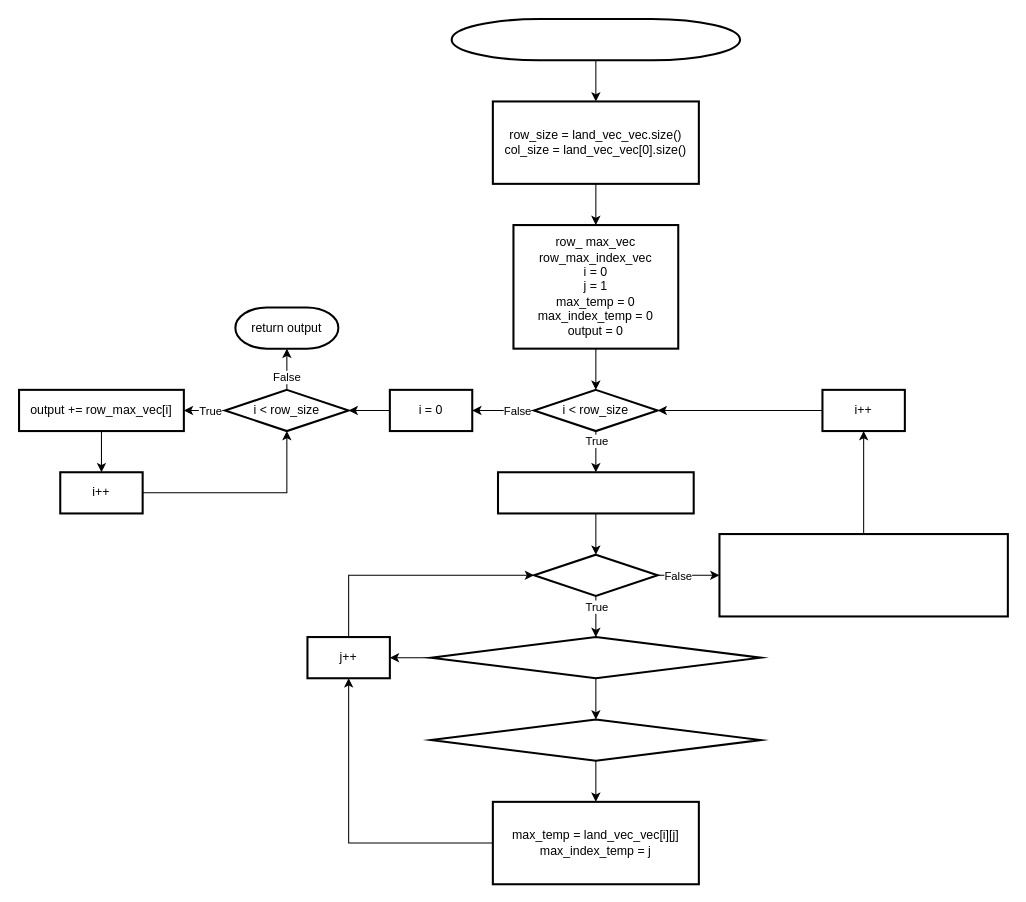
This 1026x902 diagram has some shape labels left out. The shapes that lost their labels are listed below. From the top down, each one's centre as x and y in pixels, then its label:
At (x=595, y=39): "solution(vector<vector<int>> land_vec_vec)".
At (x=595, y=492): "max_temp = land_vec_vec[i][0]".
At (x=595, y=574): "j < col_size".
At (x=863, y=575): "row_max_vec[i] = max_index_temp row_max_index_vec[i] = max_index_temp".
At (x=595, y=657): "row_max_index_vec[i - 1] == j".
At (x=595, y=739): "max_temp < land_vec_vec[i][j]".
